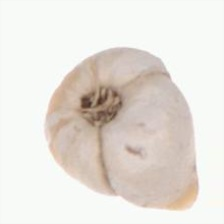L4: (46, 47, 200, 211)
